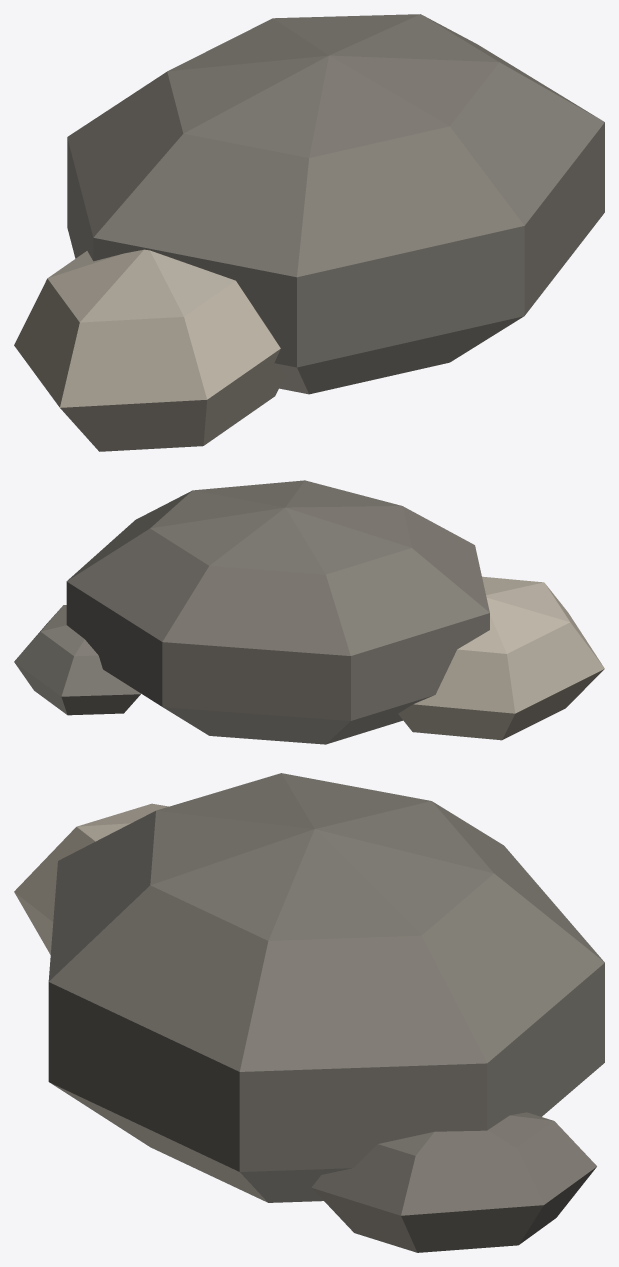
Rendered from rock_a.fbx.
The picture shows the model from 3 angles, top to bottom: view 1: azimuth 30°, elevation 25°; view 2: azimuth 150°, elevation 25°; view 3: azimuth 270°, elevation 25°; orthographic projection. The views are drawn at different scales.
Visible parts, largest first — view 1: Prop; view 2: Prop; view 3: Prop.
Part boxes in pixels (box(x1,y1,x2,y2)): Prop: box(14, 14, 604, 451); Prop: box(14, 480, 604, 744); Prop: box(14, 773, 604, 1252).
Bounding box in the file's own units: 0.8946 × 0.6351 × 0.384.
